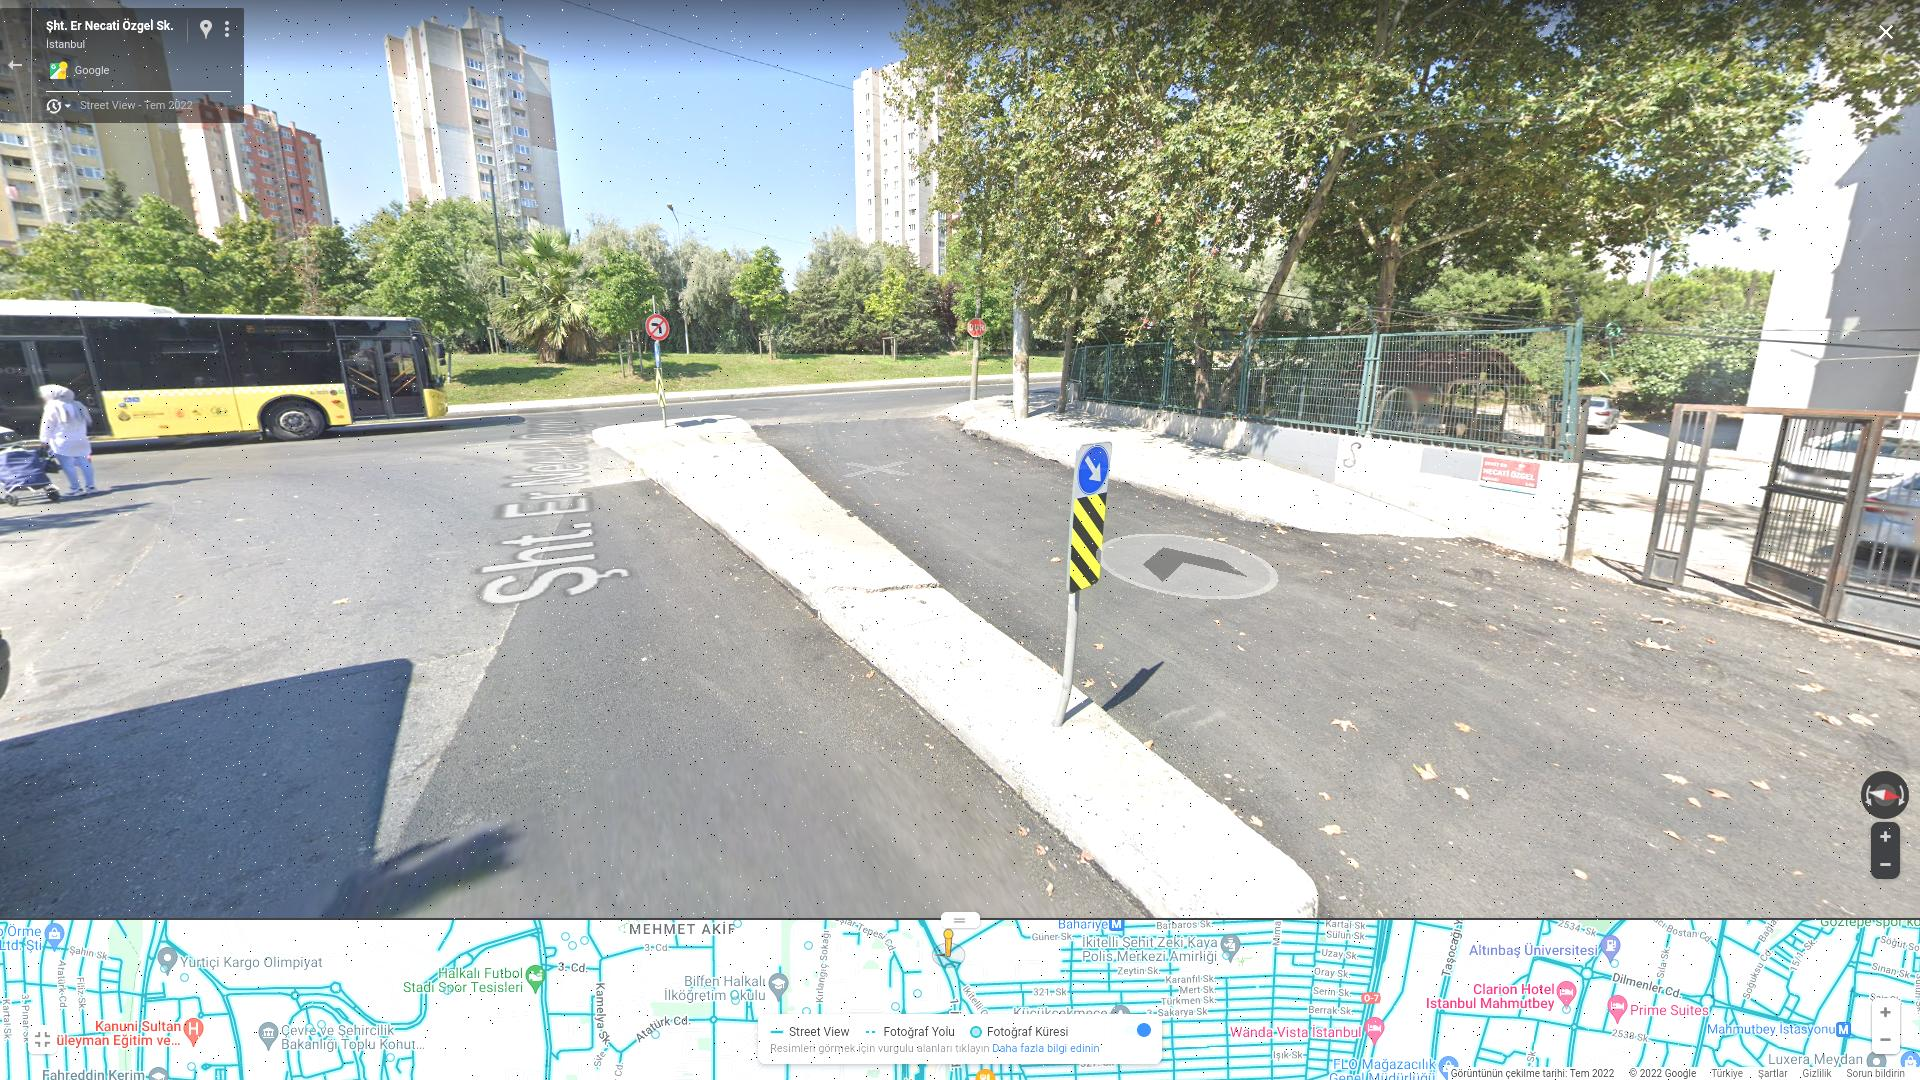leftturnsareforbidden: (645, 314, 673, 342)
stop: (967, 318, 986, 339)
